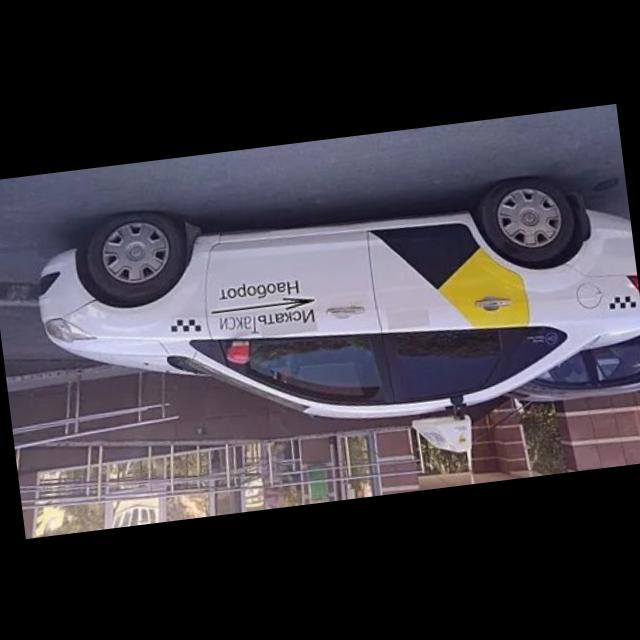taxi: (27, 152, 640, 503)
